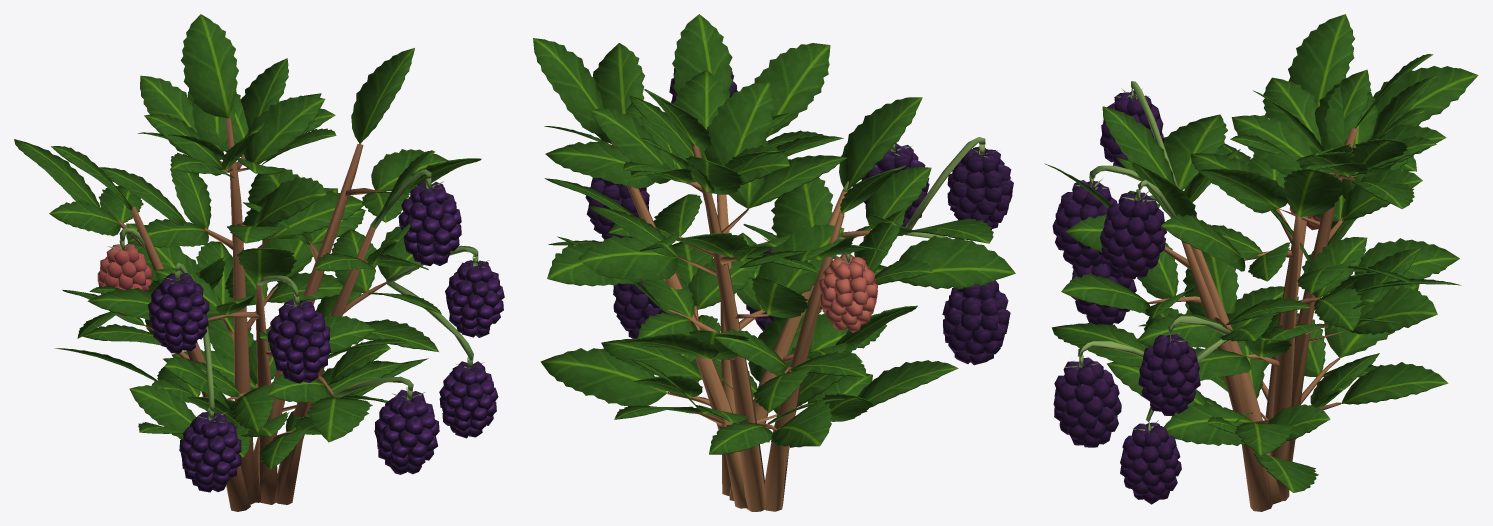
File: NP_Blackberry_Ready.fbx
The picture shows the model from 3 angles, left to right: view 1: azimuth 30°, elevation 25°; view 2: azimuth 150°, elevation 25°; view 3: azimuth 270°, elevation 25°; orthographic projection. The views are drawn at different scales.
Parts seen in each view (by area): view 1: NP_Blackberry_Ready; view 2: NP_Blackberry_Ready; view 3: NP_Blackberry_Ready.
Part boxes in pixels (x1,y1,x2,y2): NP_Blackberry_Ready: [14, 14, 504, 511]; NP_Blackberry_Ready: [533, 14, 1015, 511]; NP_Blackberry_Ready: [1044, 14, 1478, 511].
Size of the model in its own units: 80.12 by 80.47 by 69.84.
Materials: 1 (1 with a texture image).
